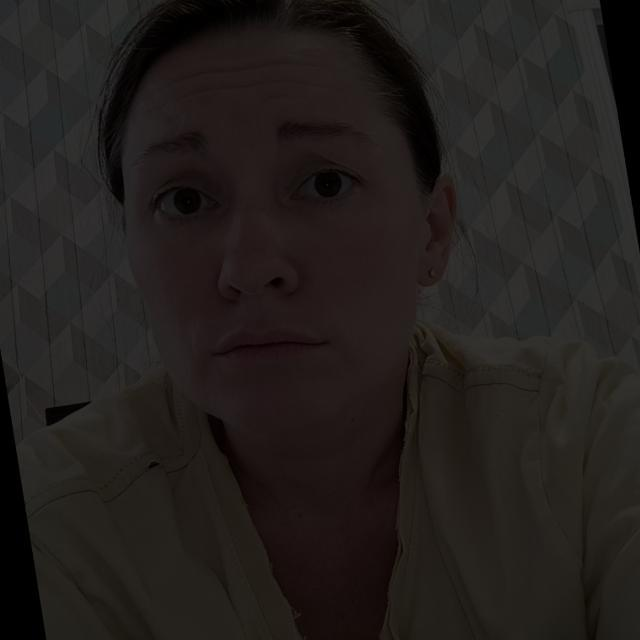Sad: (49, 50, 480, 437)
